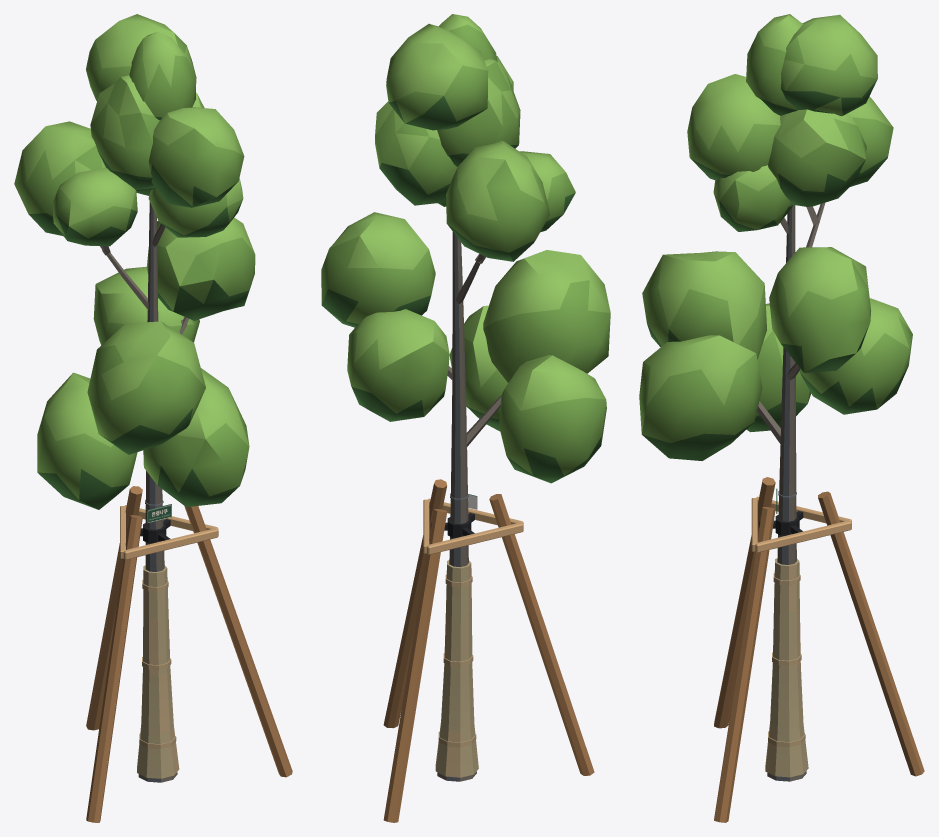
The model's file is SC_Nat_Ginkgo_Young.gltf.
3 renders of one model, left to right at view 1: azimuth 30°, elevation 25°; view 2: azimuth 150°, elevation 25°; view 3: azimuth 270°, elevation 25°, orthographic. The views are drawn at different scales.
Parts seen in each view (by area): view 1: SC_Nat_Ginkgo_Young; view 2: SC_Nat_Ginkgo_Young; view 3: SC_Nat_Ginkgo_Young.
Part boxes in pixels (x1,y1,x2,y2): SC_Nat_Ginkgo_Young: (14, 14, 292, 822); SC_Nat_Ginkgo_Young: (321, 14, 610, 822); SC_Nat_Ginkgo_Young: (639, 14, 924, 822).
Size of the model in its own units: 1.52 by 4.59 by 1.57.
2 materials, 2 textured.
